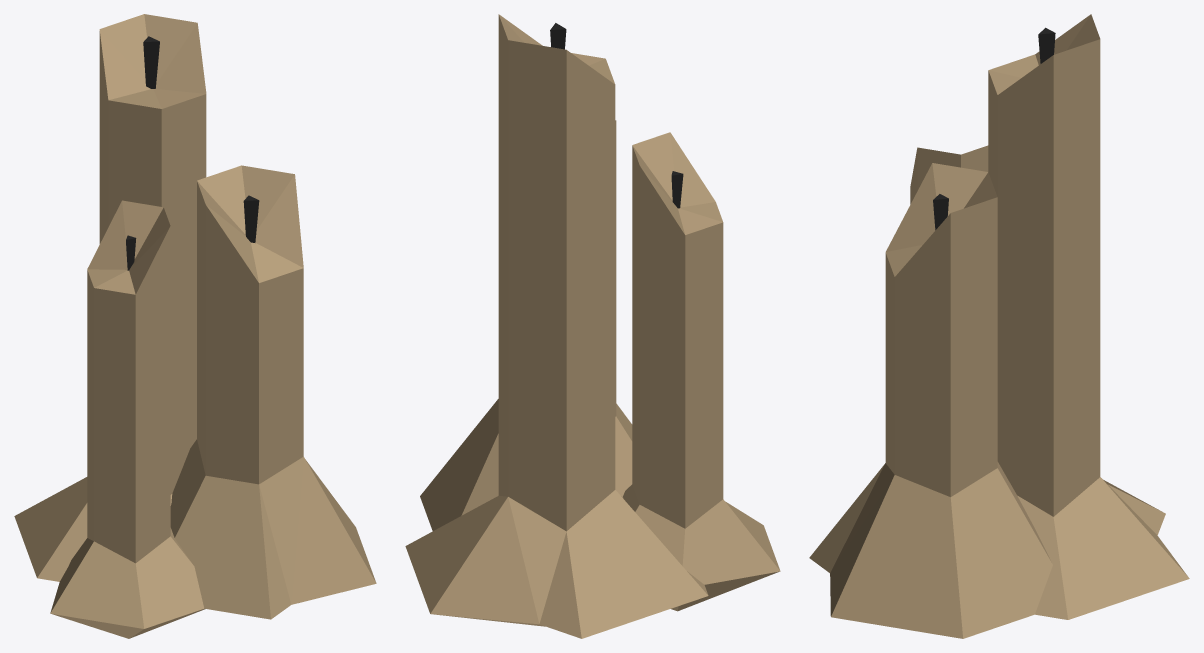
Rendered from SM_Prop_Candles_01.glb.
3 renders of one model, left to right at view 1: azimuth 30°, elevation 25°; view 2: azimuth 150°, elevation 25°; view 3: azimuth 270°, elevation 25°, orthographic. The views are drawn at different scales.
Visible parts, largest first — view 1: SM_Prop_Candles_01; view 2: SM_Prop_Candles_01; view 3: SM_Prop_Candles_01.
Boxes of the visible parts, x1=… form: SM_Prop_Candles_01: x1=14, y1=14, x2=376, y2=638; SM_Prop_Candles_01: x1=405, y1=14, x2=780, y2=638; SM_Prop_Candles_01: x1=809, y1=14, x2=1189, y2=638.
Size of the model in its own units: 0.00228 by 0.00378 by 0.00225.
Materials: 1 (1 with a texture image).
